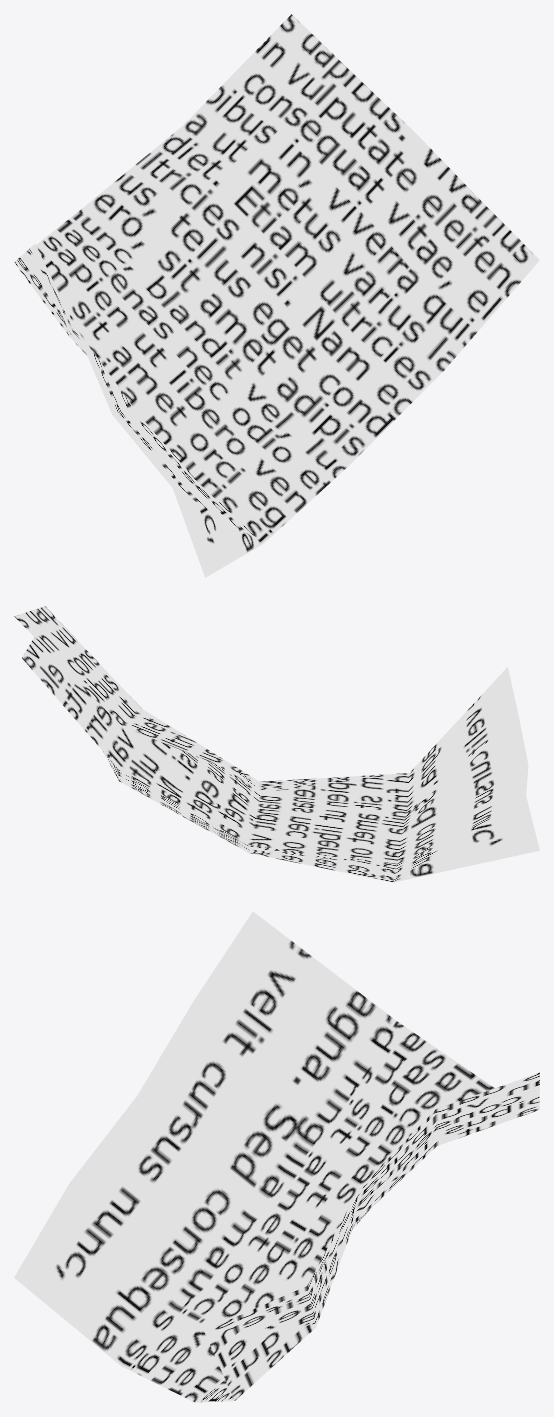
3 views of the same model, one above another, from view 1: azimuth 30°, elevation 25°; view 2: azimuth 150°, elevation 25°; view 3: azimuth 270°, elevation 25° (orthographic). The views are drawn at different scales.
Visible parts, largest first — view 1: Plane.006; view 2: Plane.006; view 3: Plane.006.
Part boxes in pixels (box(x1,y1,x2,y2)): Plane.006: box(14, 14, 539, 577); Plane.006: box(14, 606, 539, 882); Plane.006: box(14, 911, 539, 1402).
Bounding box in the file's own units: 0.6049 × 0.4174 × 0.4829.
Materials: 1 (1 with a texture image).
